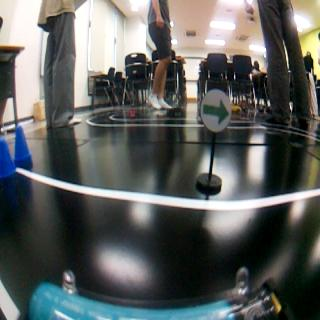right: (199, 87, 232, 130)
